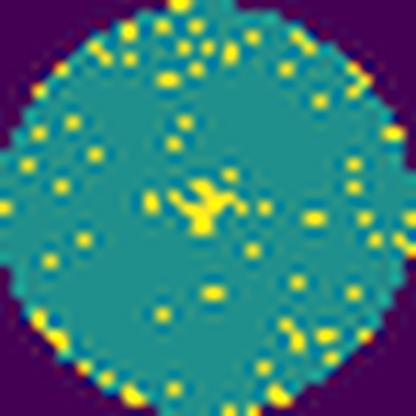Center: (171, 181, 238, 236)
